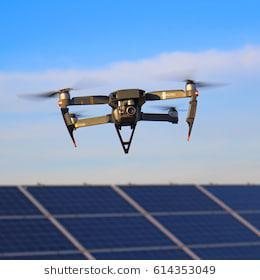drone: (51, 79, 201, 155)
